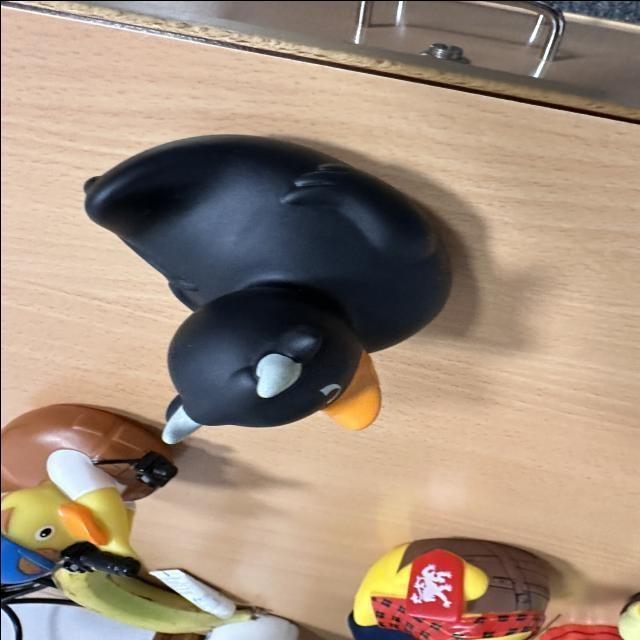rubber-duck: (83, 134, 448, 442), (0, 404, 159, 598)
